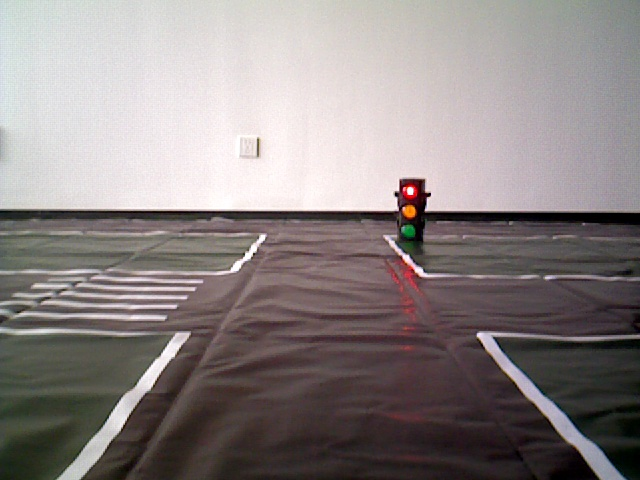red: (396, 177, 421, 240)
